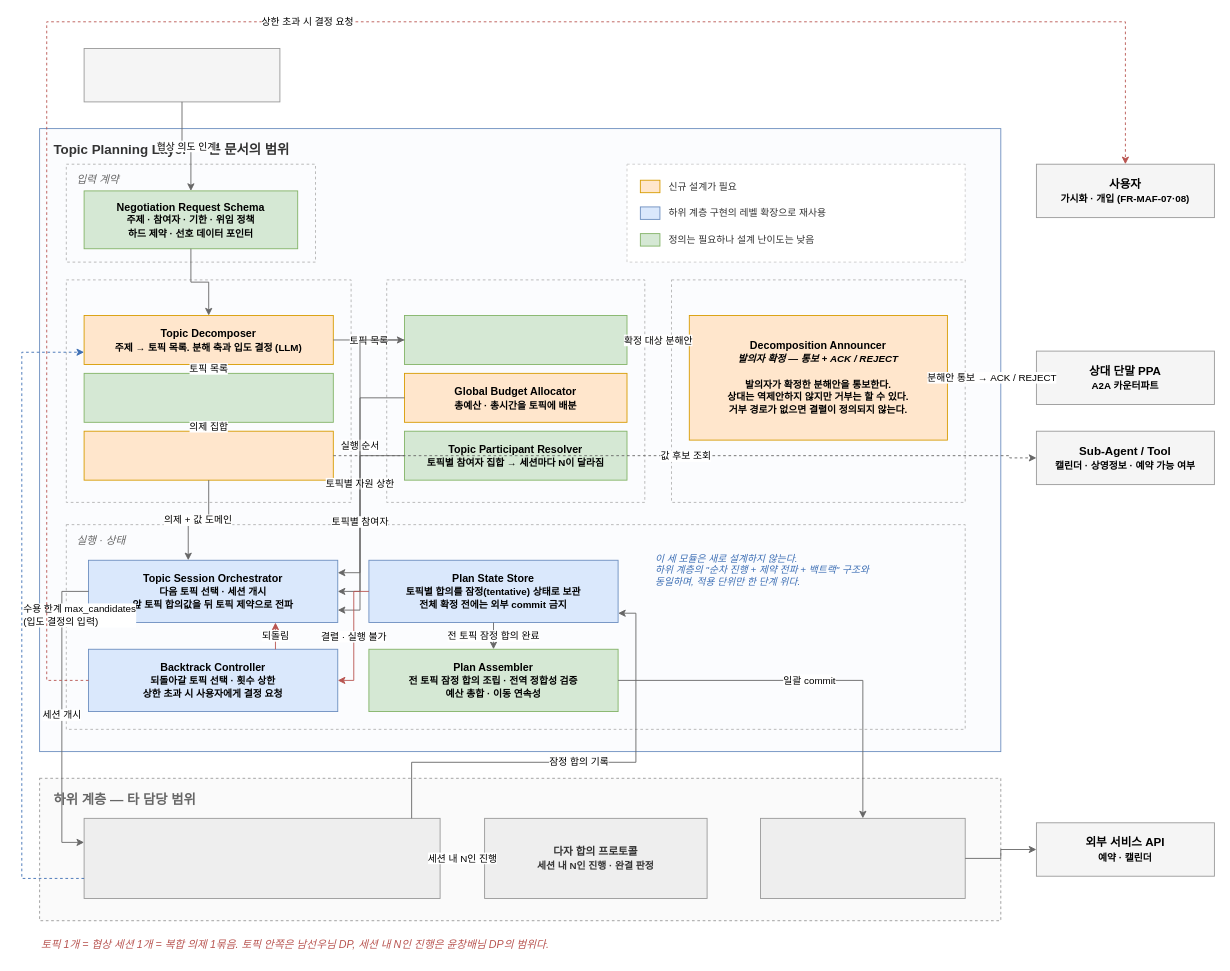
Some shapes in this 1230 by 971 pixel diagram are drawn without their labels. The shapes that lost their labels are listed below. From the top down, each one's box as (x1, y1, x2, y2) in pixels, then its label:
(83, 48, 280, 102): IDS 협상 의도 · 큰 주제 도출
(404, 315, 627, 364): Topic Dependency Graph 토픽 간 선후 · 제약 관계
(65, 279, 351, 502): 분해
(83, 372, 333, 422): Topic → Issue Builder 토픽 1개당 의제 집합 생성
(386, 279, 645, 502): 토픽 간 관계
(671, 279, 965, 502): 상대와의 정합
(83, 430, 333, 480): Value Domain Resolver 의제별 실제 값 후보를 도구 조회로 확보
(83, 817, 440, 898): Topic Negotiation Session 토픽 1개 = 복합 의제 협상 세션 1개 후보군 구성 · 조합 폭발 대응
(760, 817, 965, 898): Tool Calling 합의안 후속 실행 (FR-MAF-09)
